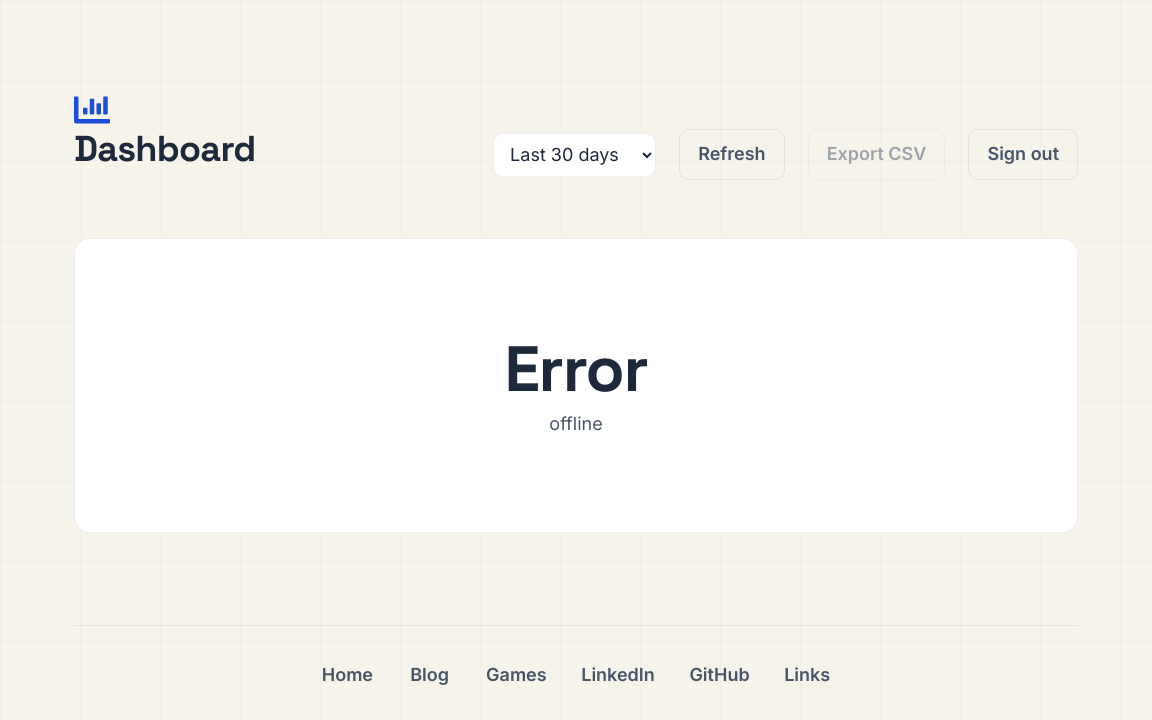
Test case: Dashboard › handles rejected stats and permits retry
The width and height of the screenshot is (1152, 720).
Check: the message shows "offline", box [549, 413, 603, 434]
Click the button "Refresh" at (732, 155), box [679, 129, 785, 180]
(page scrolled)
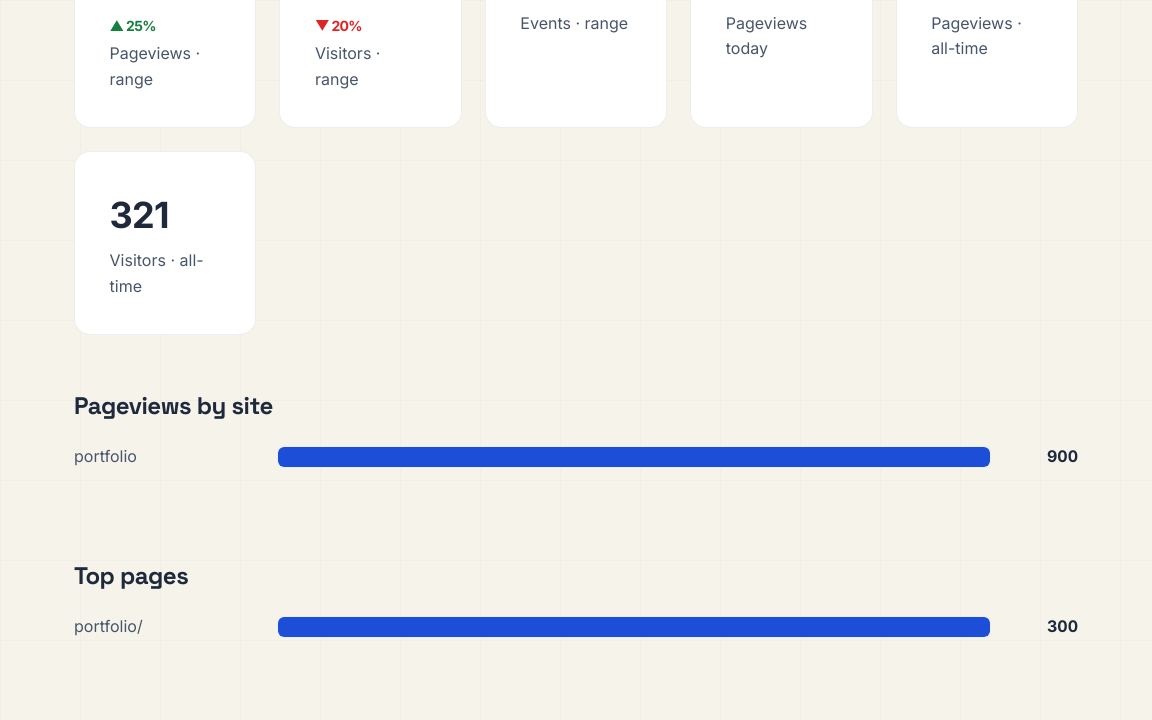
Check: the heading "Pageviews by site" is shown, box [74, 390, 273, 421]
